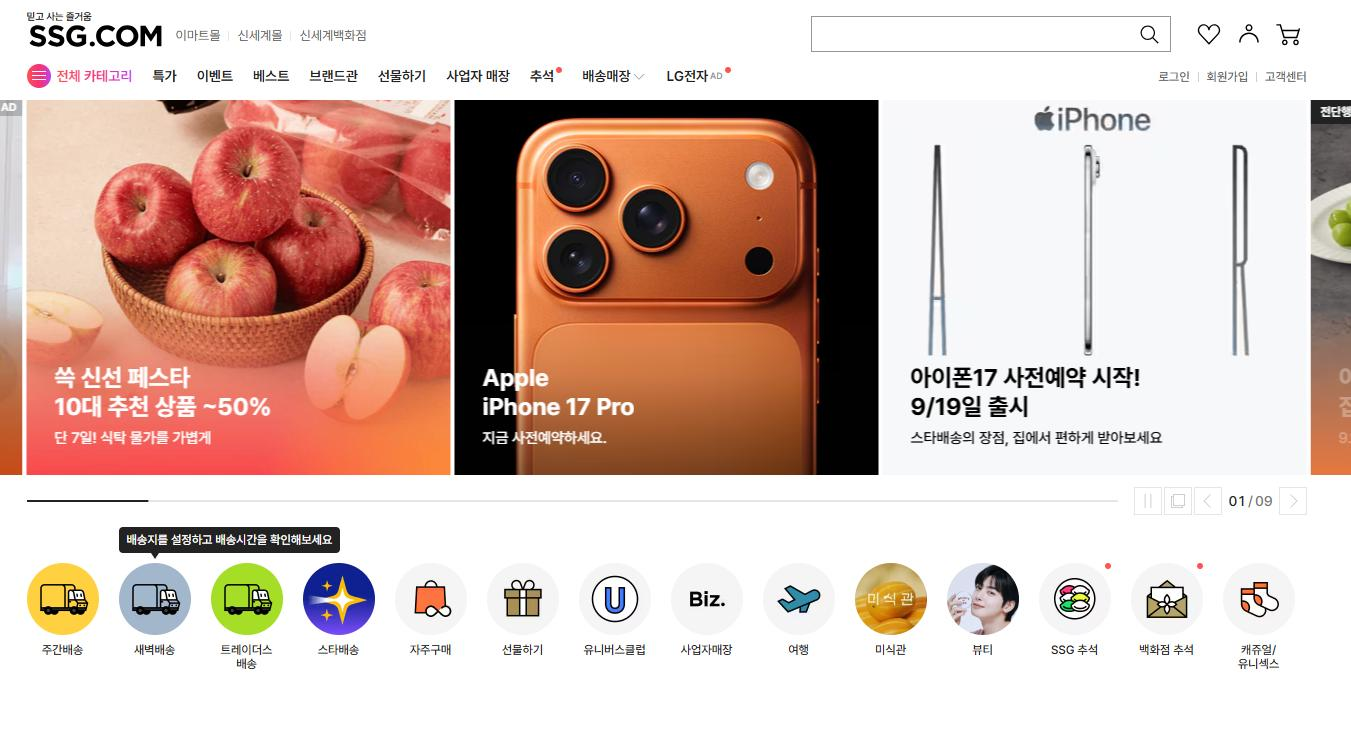button: (939, 559, 1034, 669), (204, 564, 289, 672), (1126, 567, 1203, 673), (855, 558, 931, 665), (28, 549, 100, 660), (481, 570, 559, 663), (1222, 583, 1298, 676), (1040, 566, 1111, 665), (297, 566, 373, 658), (574, 572, 657, 655), (671, 569, 745, 658), (120, 556, 187, 653), (392, 566, 461, 660), (768, 565, 836, 658), (660, 59, 740, 87), (1185, 11, 1232, 50), (368, 58, 431, 87), (445, 71, 518, 90), (301, 66, 361, 88), (1242, 20, 1274, 53), (179, 26, 228, 46), (306, 27, 376, 41), (1130, 488, 1162, 518), (244, 31, 300, 48), (1200, 70, 1250, 87), (1275, 19, 1307, 44), (253, 65, 292, 84), (1149, 67, 1190, 85), (527, 68, 566, 83), (203, 70, 247, 83), (1193, 487, 1216, 511), (154, 64, 186, 81), (1260, 73, 1314, 83), (1280, 488, 1302, 510), (1165, 495, 1186, 515)
checkbox: (577, 67, 640, 85)
input_field: (808, 15, 1171, 53)
